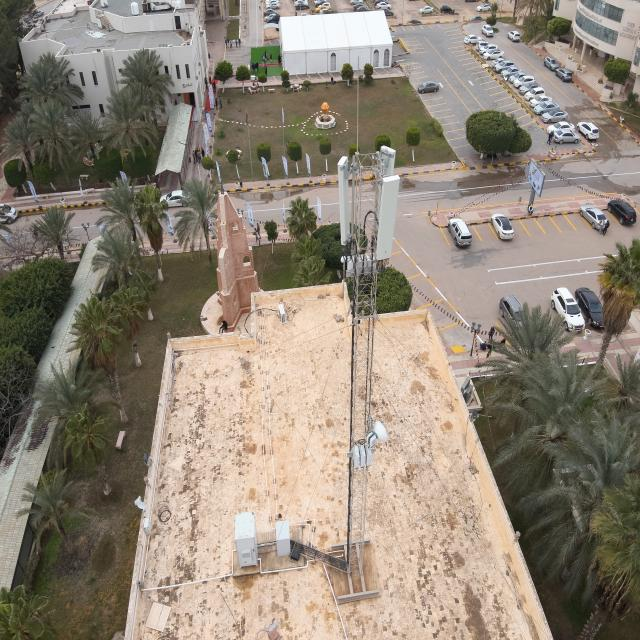antenna: (376, 173, 401, 261), (337, 154, 356, 248), (378, 143, 397, 233)
lighnig-rad: (356, 54, 360, 154)
radio-unit: (346, 250, 377, 274)
